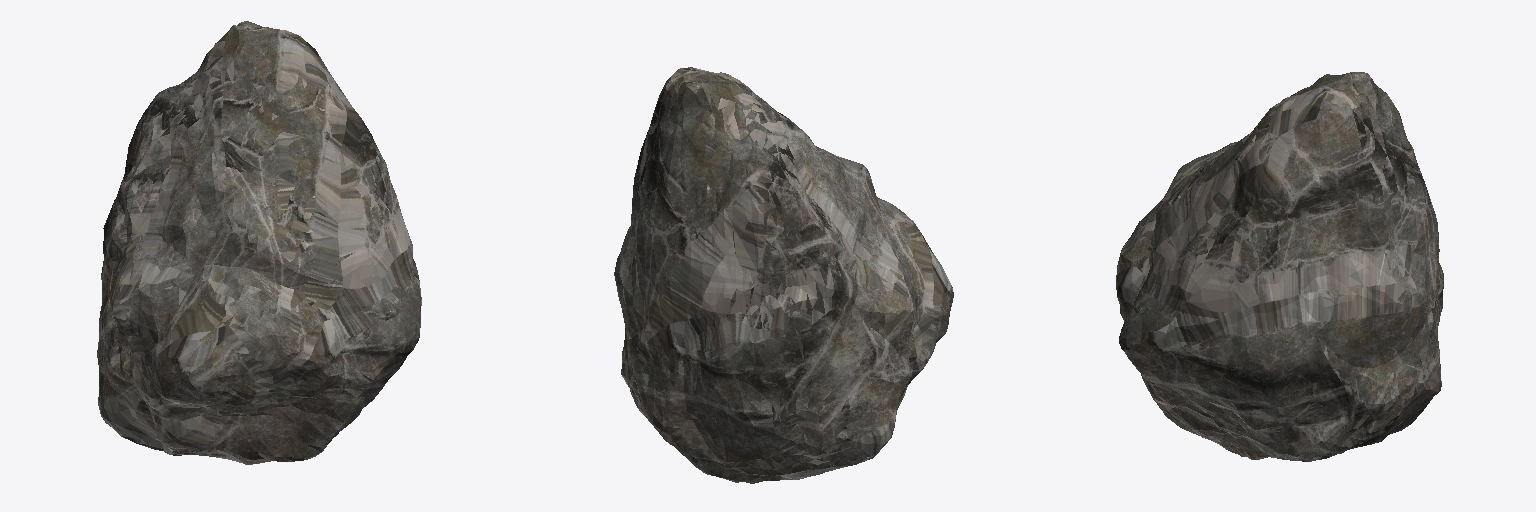
The picture shows the model from 3 angles: view 1: azimuth 30°, elevation 25°; view 2: azimuth 150°, elevation 25°; view 3: azimuth 270°, elevation 25°; orthographic projection.
Visible parts, largest first — view 1: Mesh1 Obj3d66_617022_187_809 Model; view 2: Mesh1 Obj3d66_617022_187_809 Model; view 3: Mesh1 Obj3d66_617022_187_809 Model.
Part boxes in pixels (bbox=[...]): Mesh1 Obj3d66_617022_187_809 Model: bbox=[97, 21, 421, 464]; Mesh1 Obj3d66_617022_187_809 Model: bbox=[614, 67, 953, 483]; Mesh1 Obj3d66_617022_187_809 Model: bbox=[1116, 72, 1443, 461].
Size of the model in its own units: 10632 by 13630 by 10428.
Materials: 1 (1 with a texture image).